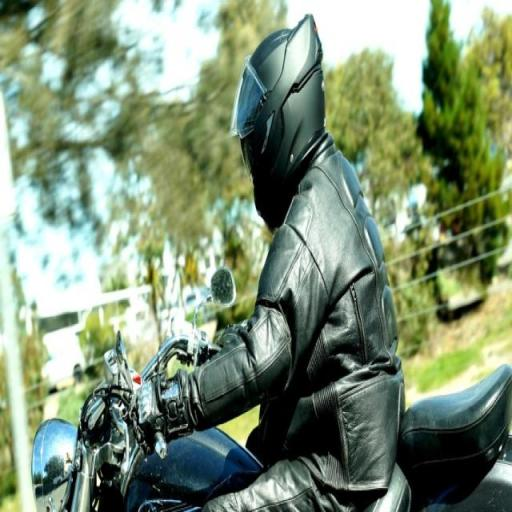Helmet: (218, 25, 342, 226)
Motor: (35, 340, 512, 511)
